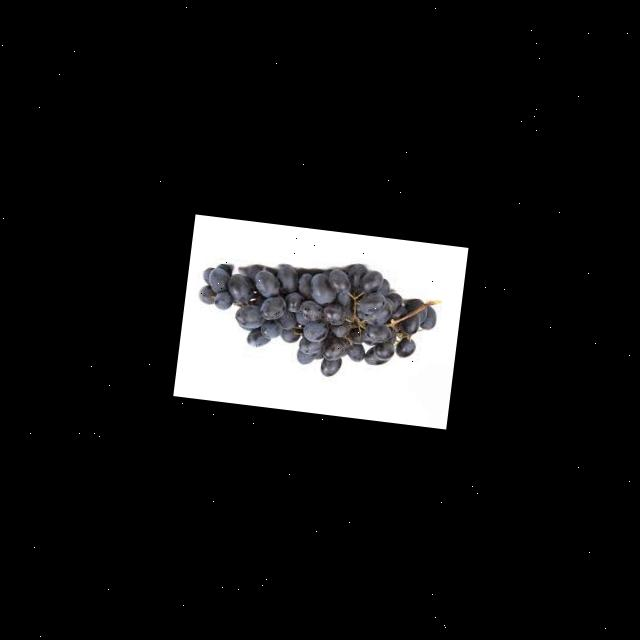grape: (189, 244, 441, 388)
